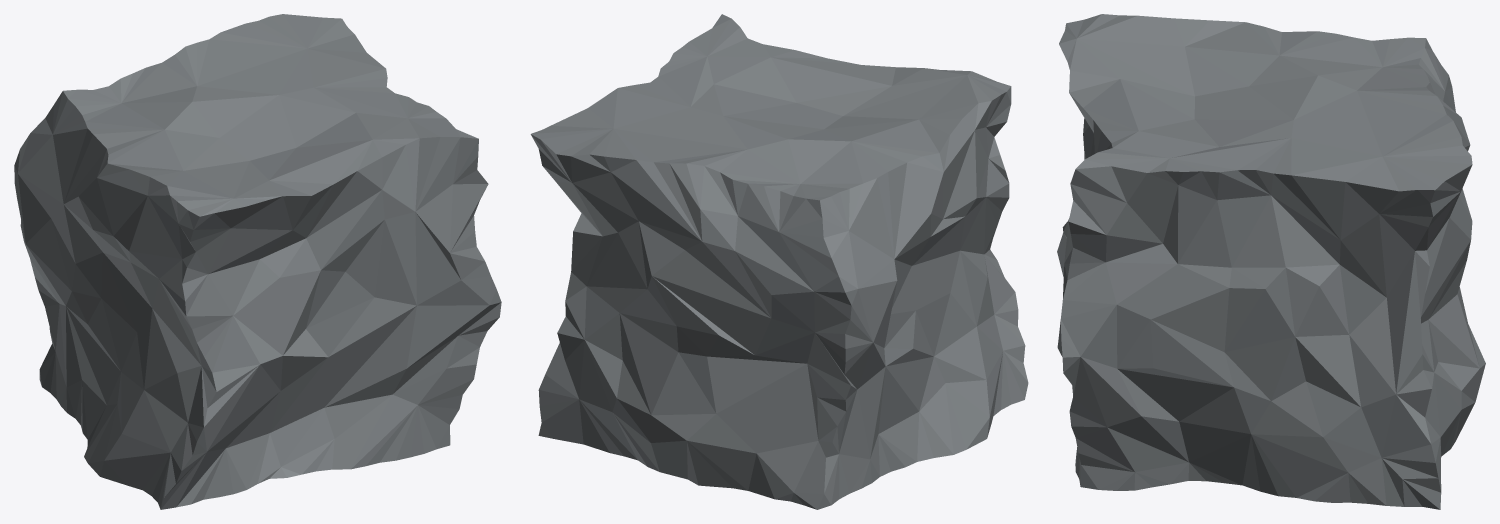
File: Podium_Gargouilles.FBX
3 renders of one model, left to right at view 1: azimuth 30°, elevation 25°; view 2: azimuth 150°, elevation 25°; view 3: azimuth 270°, elevation 25°, orthographic. The views are drawn at different scales.
Visible parts, largest first — view 1: Podium_Gargouilles; view 2: Podium_Gargouilles; view 3: Podium_Gargouilles.
Boxes of the visible parts, x1,y1,x2,y2 form: Podium_Gargouilles: (14,14,501,509); Podium_Gargouilles: (530,14,1028,509); Podium_Gargouilles: (1057,14,1485,509).
Size of the model in its own units: 98.23 by 82.29 by 95.31.
1 material, 1 textured.
